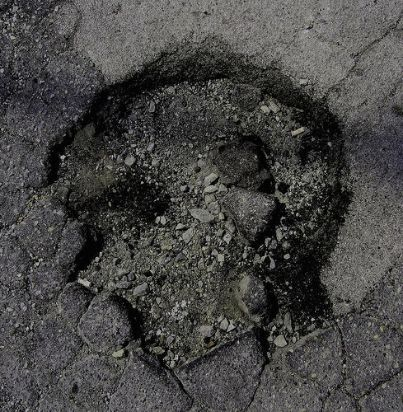pothole: (34, 41, 346, 378)
